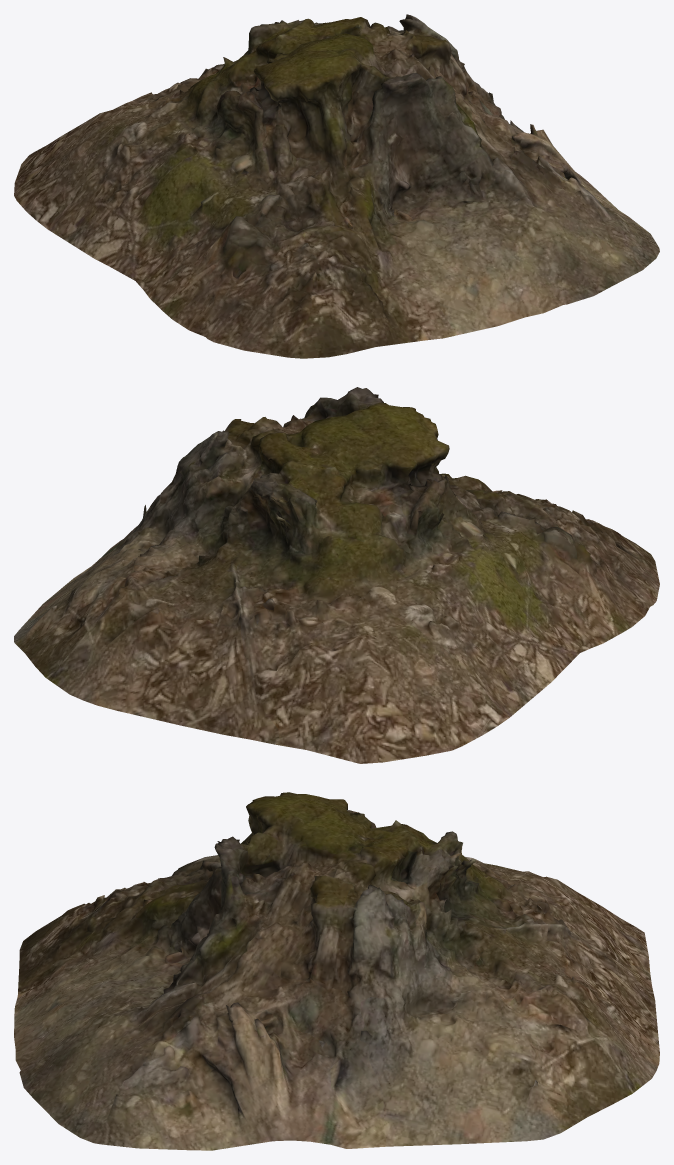
Rendered from tree_stump_01.glb.
3 renders of one model, top to bottom at view 1: azimuth 30°, elevation 25°; view 2: azimuth 150°, elevation 25°; view 3: azimuth 270°, elevation 25°, orthographic. The views are drawn at different scales.
Parts seen in each view (by area): view 1: tree_stump_01; view 2: tree_stump_01; view 3: tree_stump_01.
Boxes of the visible parts, bbox=[...] form: tree_stump_01: bbox=[14, 14, 659, 358]; tree_stump_01: bbox=[14, 387, 659, 763]; tree_stump_01: bbox=[14, 792, 659, 1150].
Bounding box in the file's own units: 1.43 × 0.5725 × 1.59.
Materials: 1 (1 with a texture image).
